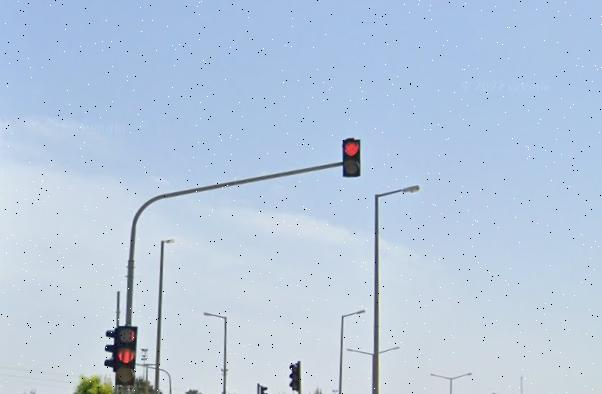redlight: (115, 326, 136, 385), (343, 139, 360, 177)
